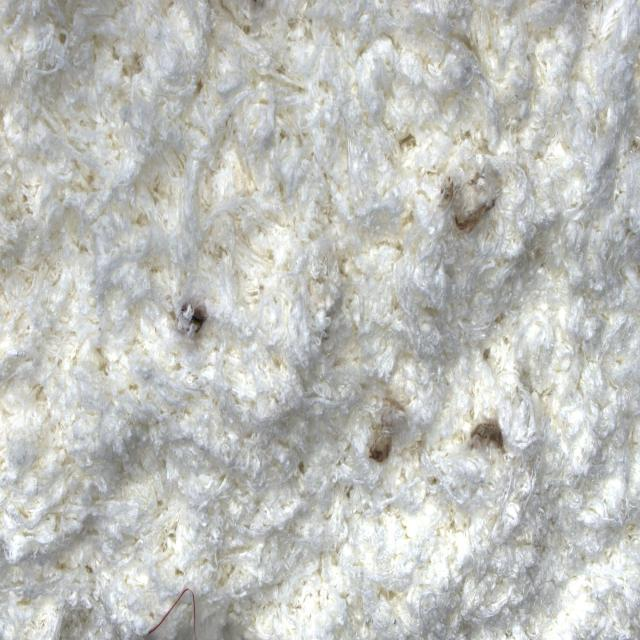dust: (167, 265, 217, 377), (353, 404, 408, 503), (460, 386, 515, 480), (142, 567, 210, 640), (438, 176, 497, 230)
